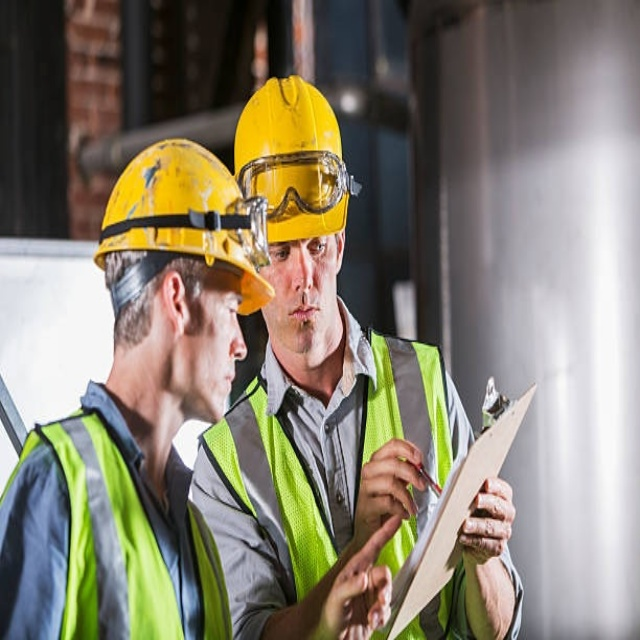Sin_gafas: (269, 231, 340, 273), (201, 282, 251, 314)
Sin_guantes: (312, 508, 409, 635), (350, 430, 427, 543), (452, 464, 517, 569)
Sin_mascara: (200, 361, 238, 419), (283, 298, 326, 345)
